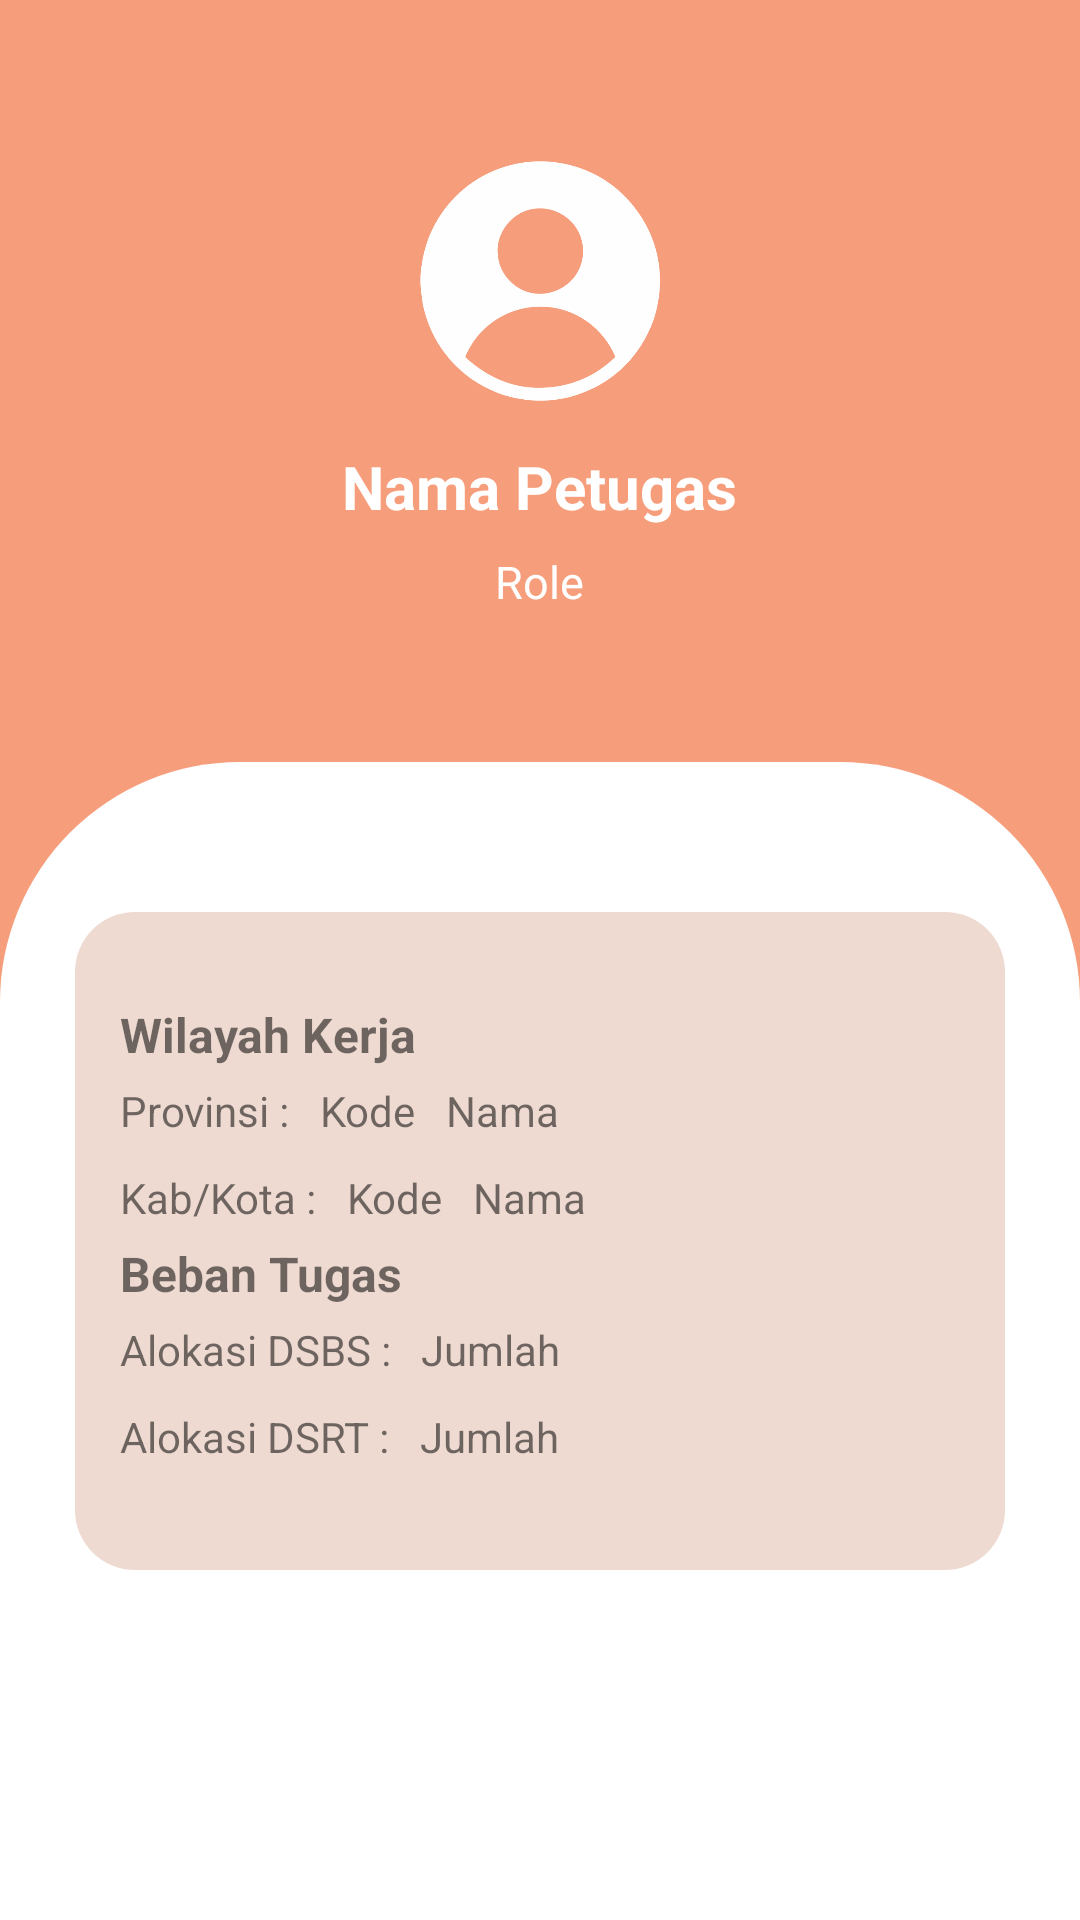

Named icons in this screenshot (1080 x 1920) and their centers, (x=x, y=y):
account: (x=540, y=281)
